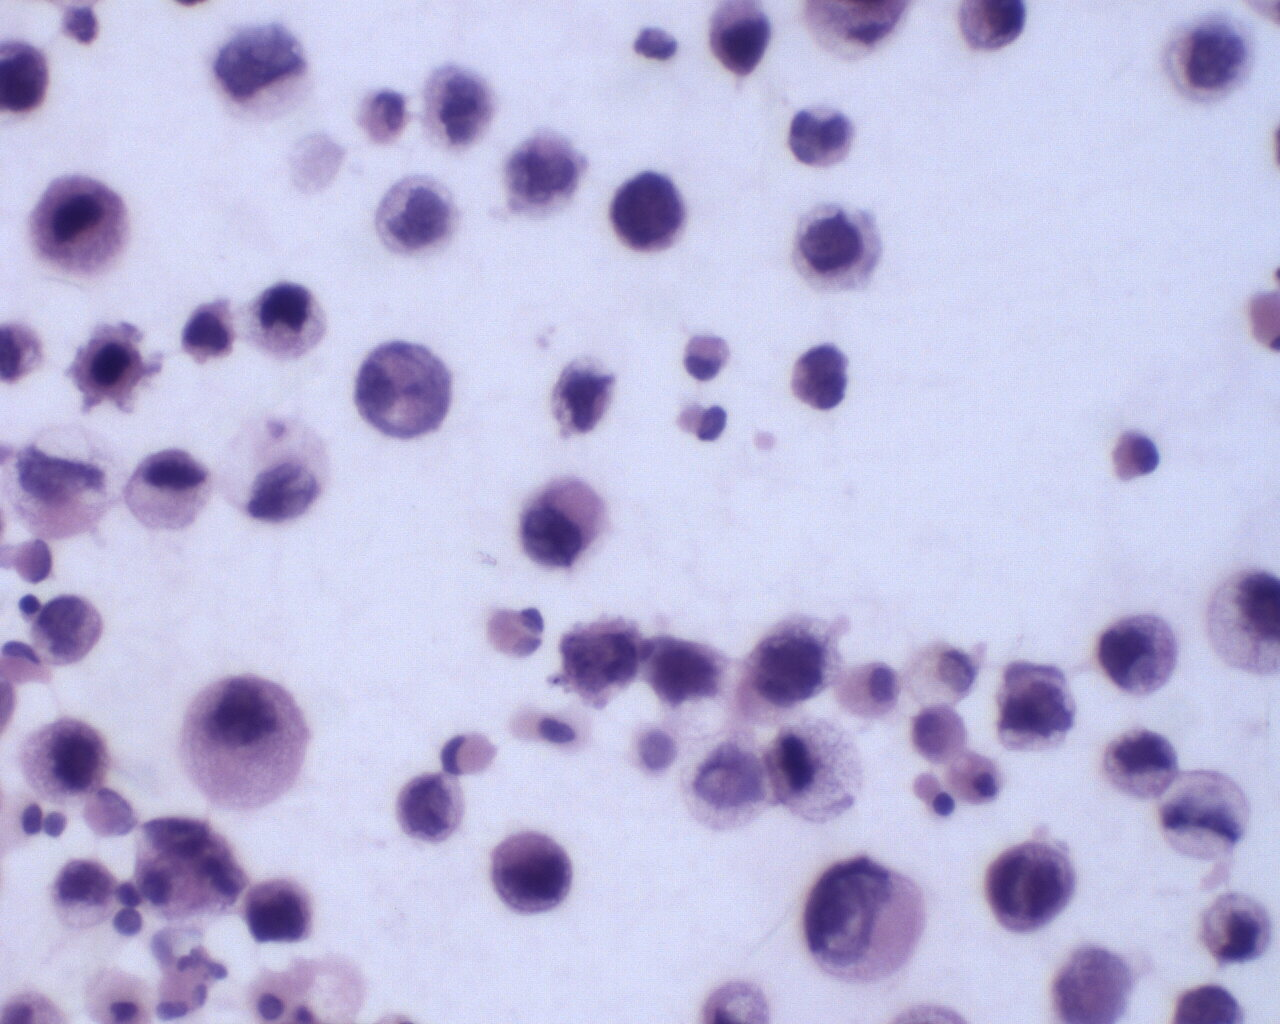ab: (174, 673, 323, 817), (795, 855, 929, 991), (351, 330, 457, 442), (975, 836, 1083, 942), (990, 649, 1087, 762), (785, 199, 888, 298), (519, 465, 612, 575), (15, 711, 116, 807), (483, 827, 582, 921), (368, 166, 464, 262), (1096, 607, 1184, 703), (604, 164, 690, 254), (247, 278, 328, 366), (1097, 720, 1179, 804), (237, 872, 319, 954), (1198, 886, 1278, 969), (699, 3, 777, 82), (393, 767, 466, 850), (29, 592, 104, 671), (787, 342, 854, 412), (179, 298, 234, 364)
histo: (118, 440, 215, 537)
meso: (837, 657, 906, 724), (904, 701, 974, 766)
